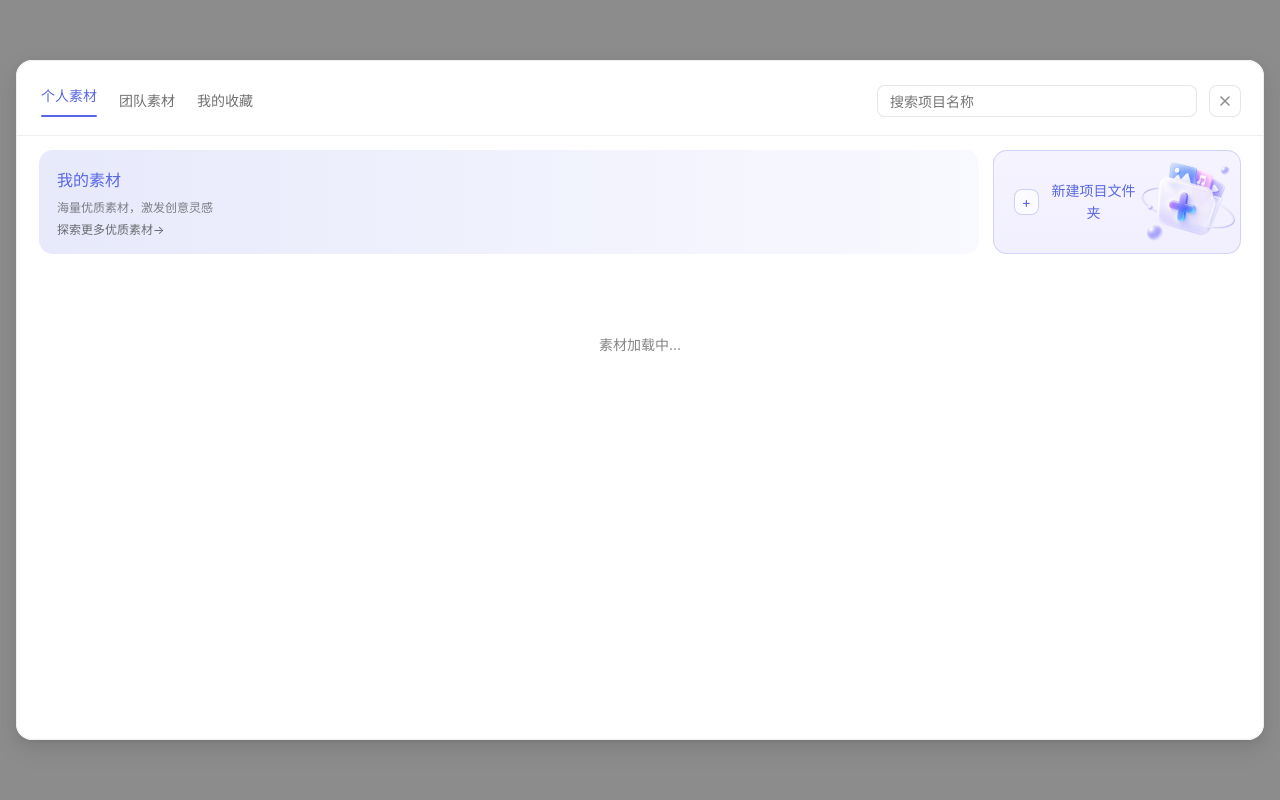
Scenario: MaterialLibraryPicker workspace isolation › initializes a new project folder before refreshing the folder list
The width and height of the screenshot is (1280, 800).
Click the button "+ 新建项目文件夹".
click(1117, 202)  # box left=993, top=150, right=1241, bottom=254
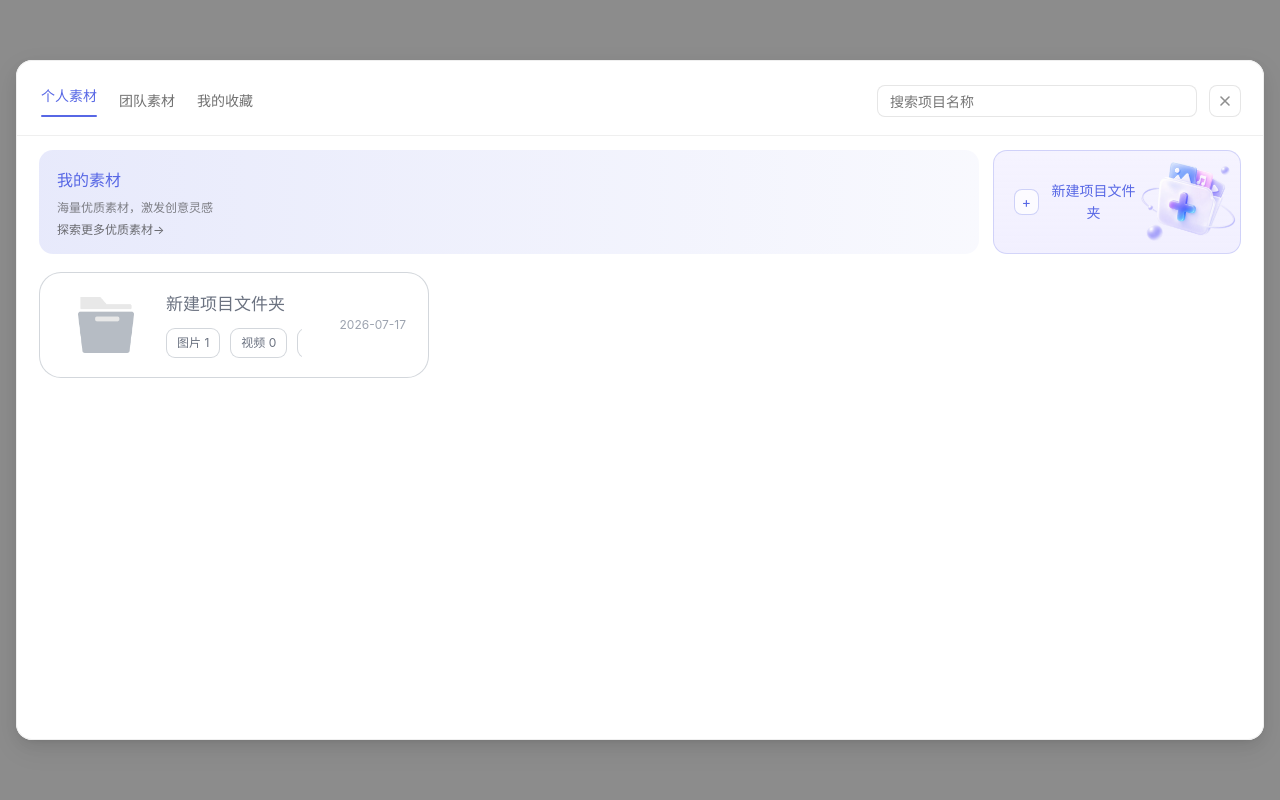
Result: the picture named "新建项目文件夹" is shown at left=68, top=297, right=144, bottom=353
